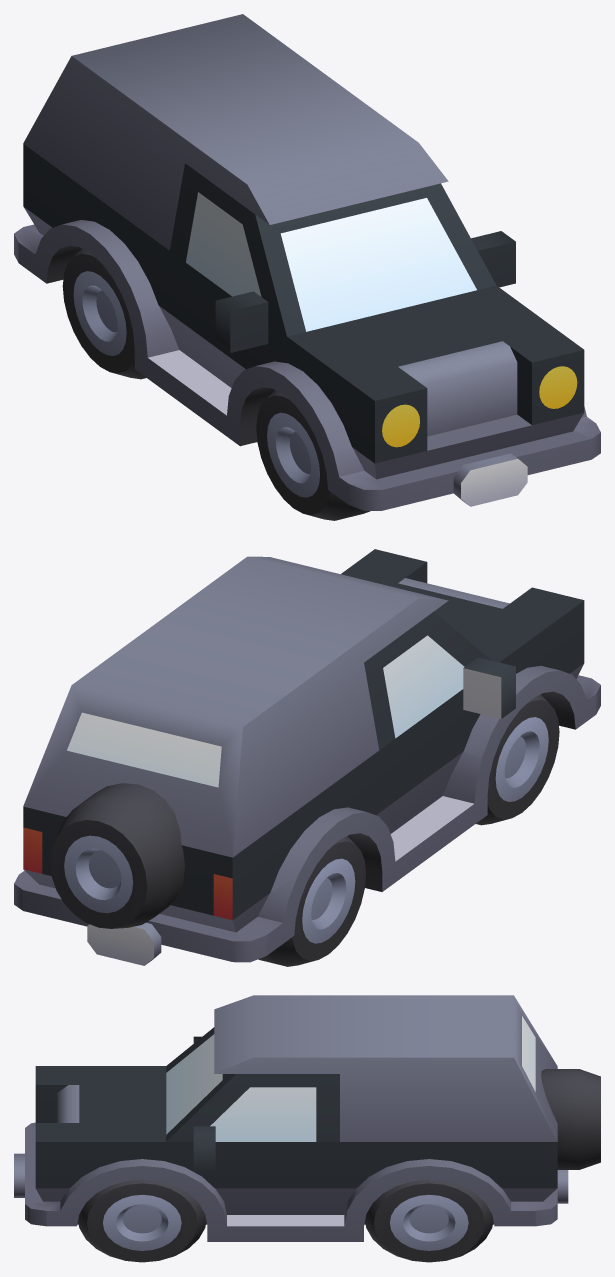
File: suv-charcoal.glb
3 renders of one model, top to bottom at view 1: azimuth 30°, elevation 25°; view 2: azimuth 150°, elevation 25°; view 3: azimuth 270°, elevation 25°, orthographic. The views are drawn at different scales.
Visible parts, largest first — view 1: suv; view 2: suv; view 3: suv.
Part boxes in pixels (x1,y1,x2,y2): suv: [14, 14, 600, 520]; suv: [14, 549, 600, 966]; suv: [14, 995, 600, 1262].
Size of the model in its own units: 1.96 by 1.78 by 4.7.
Materials: 1 (1 with a texture image).
